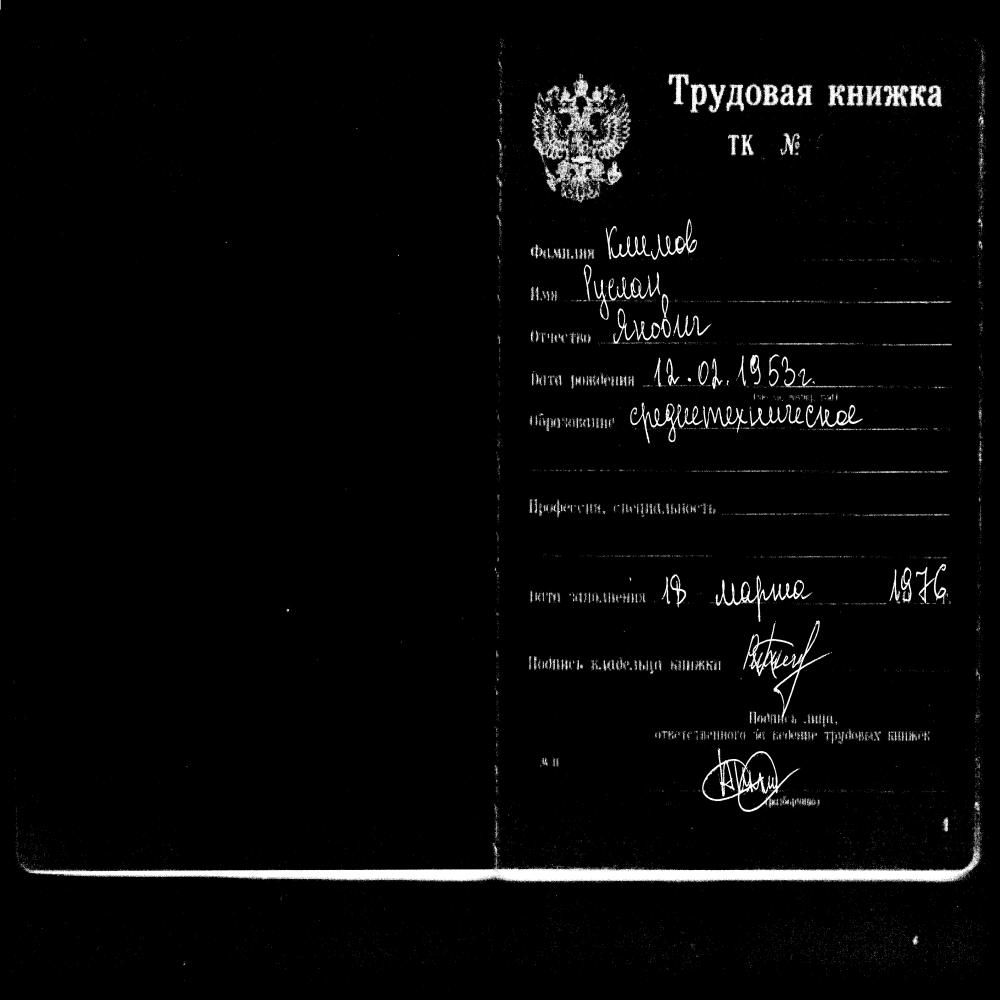rus: (629, 394, 863, 442), (648, 348, 829, 390), (823, 62, 947, 121), (607, 300, 712, 350), (600, 216, 700, 268), (876, 559, 954, 614), (712, 573, 818, 611), (578, 263, 682, 301), (654, 562, 692, 612)
